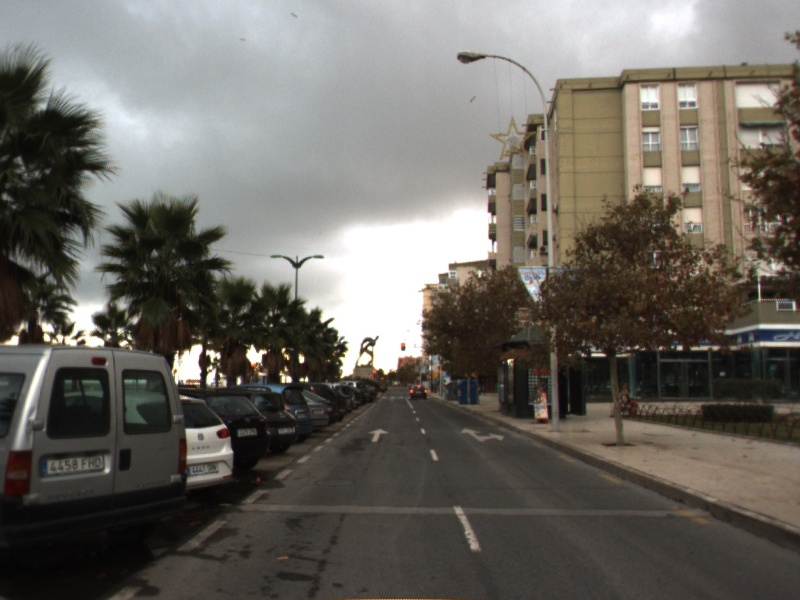STRAIGHT: (366, 427, 391, 443)
STRAIGHT_RIGHT: (458, 426, 506, 444)
